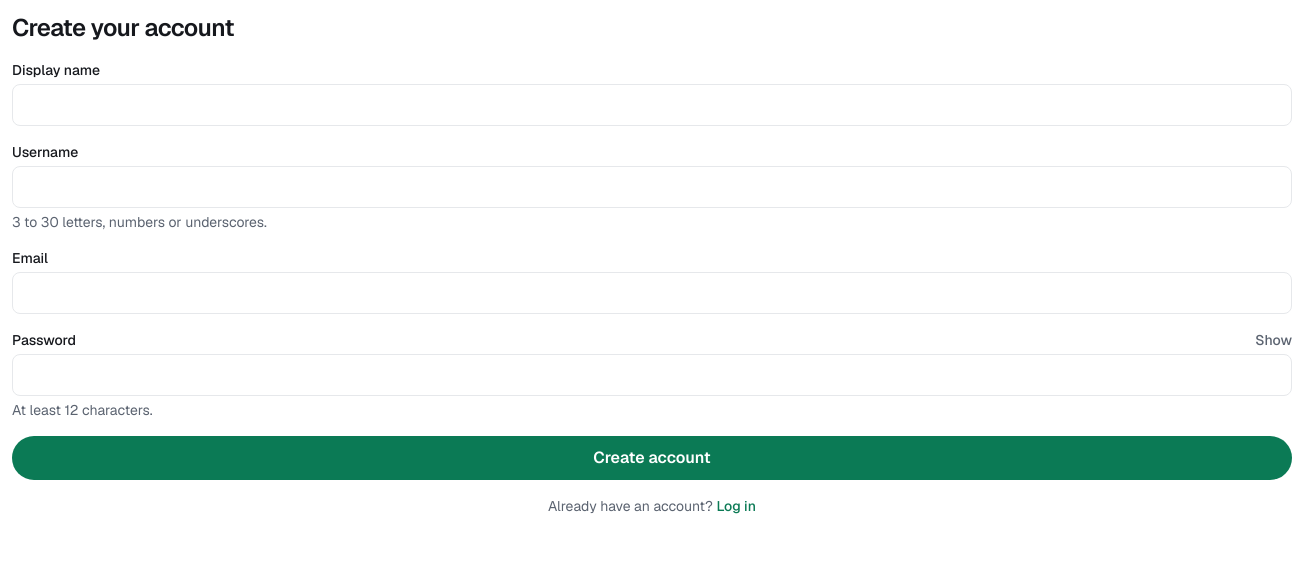
Test: RegisterForm › explains a server error for the whole form
The image size is (1304, 585).
Type "  Test Viewer " into the field labelled "Display name" at (652, 105), box [12,84,1292,126]
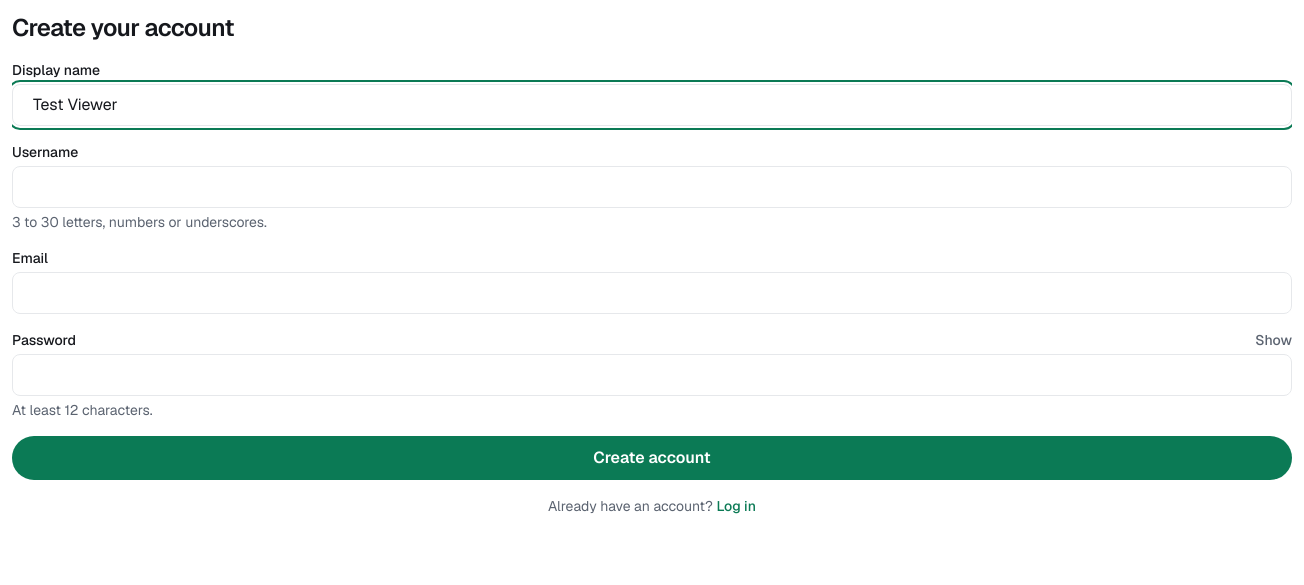
Type " test_viewer " into the field labelled "Username" at (652, 187), box [12,166,1292,208]
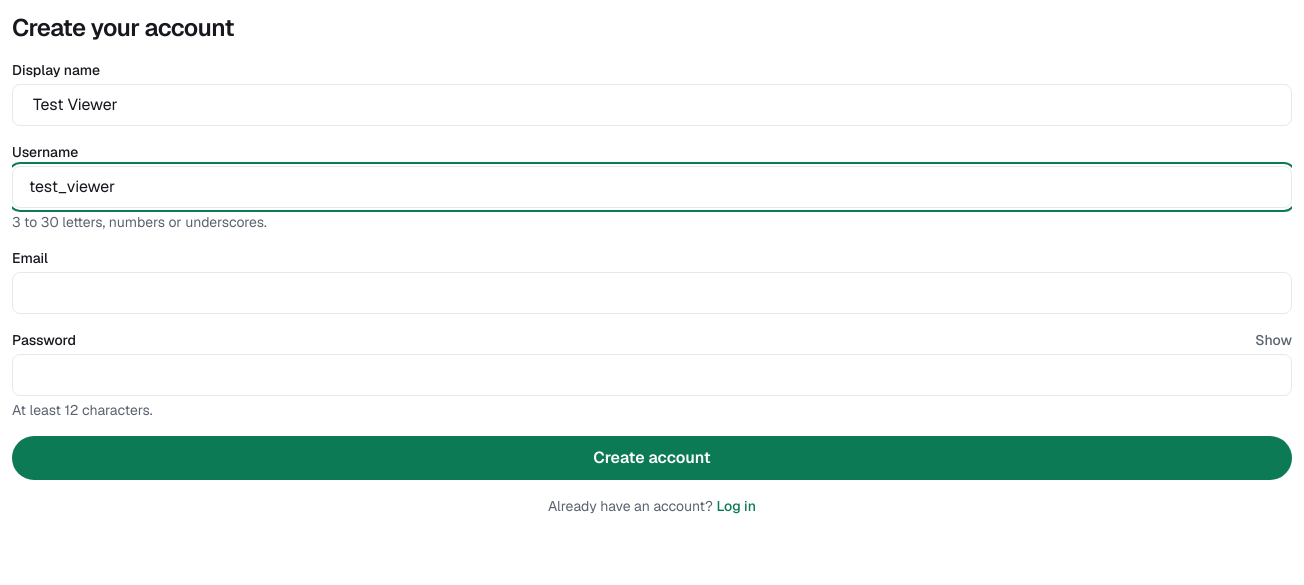
Type " test_viewer@example.com " into the field labelled "Email" at (652, 293), box [12,272,1292,314]
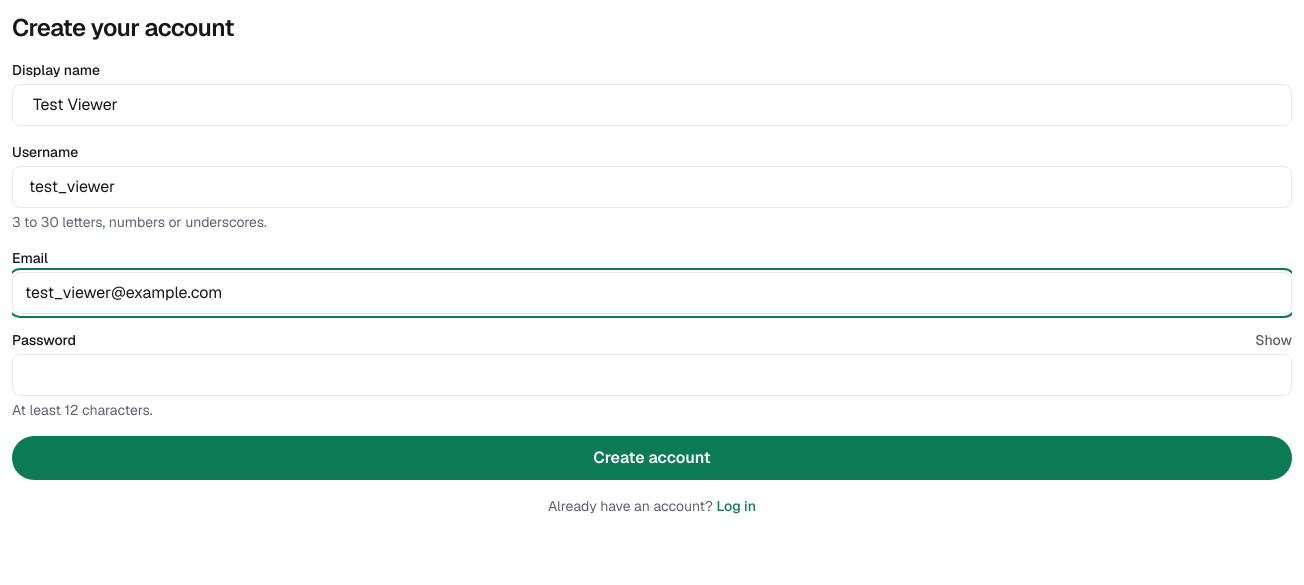
Type " a long password " into the password field labelled "Password" at (652, 375), box [12,354,1292,396]
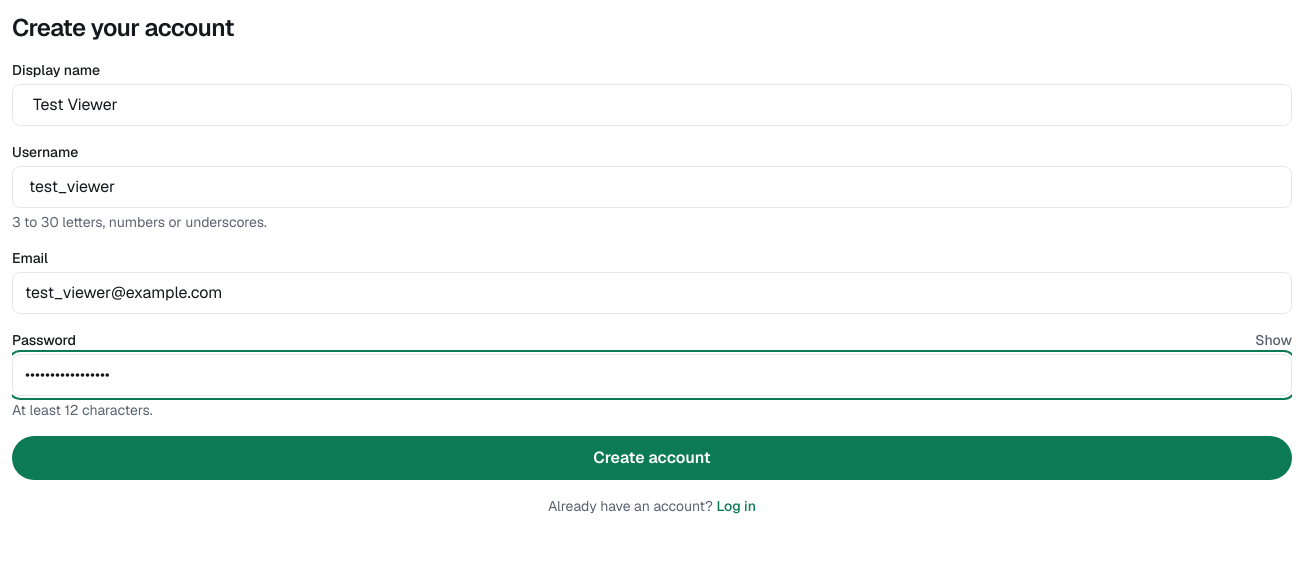
Click the button "Create account" at (652, 458), box [12,436,1292,480]
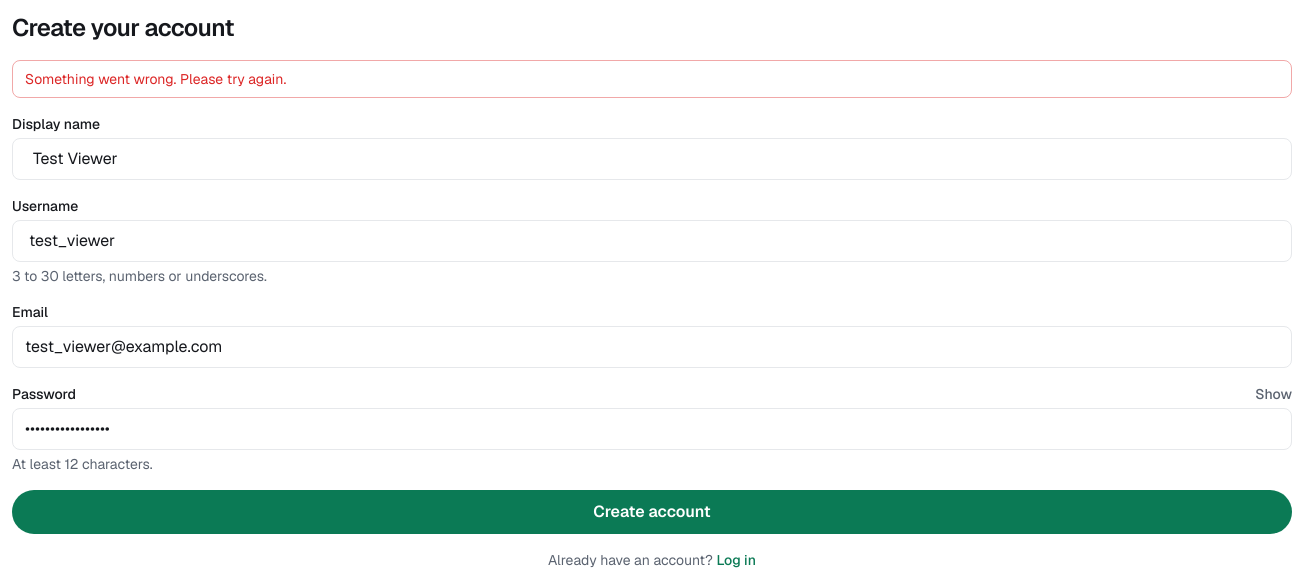
Expected: the button "Create account" is enabled, [12,490,1292,534]
Expected: the message reads "Something went wrong. Please try again.", [25,70,286,88]
